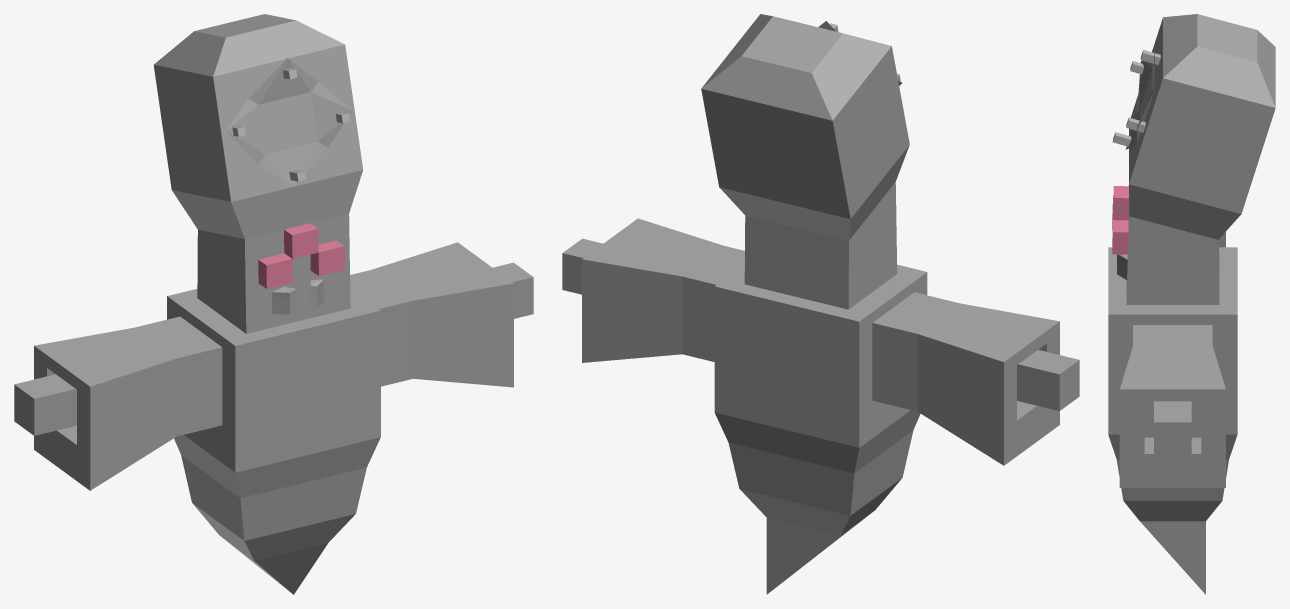
File: AlienPriest2.fbx
3 views of the same model, side by side, from view 1: azimuth 30°, elevation 25°; view 2: azimuth 150°, elevation 25°; view 3: azimuth 270°, elevation 25° (orthographic). The views are drawn at different scales.
Parts seen in each view (by area): view 1: pCube1; view 2: pCube1; view 3: pCube1, pPlane1.
Boxes of the visible parts, box(x1,y1,x2,y2) form: pCube1: box(14, 14, 533, 594); pCube1: box(562, 14, 1079, 594); pCube1: box(1108, 14, 1275, 594); pPlane1: box(1112, 50, 1160, 146).
Size of the model in its own units: 6.71 by 7.43 by 2.06.
